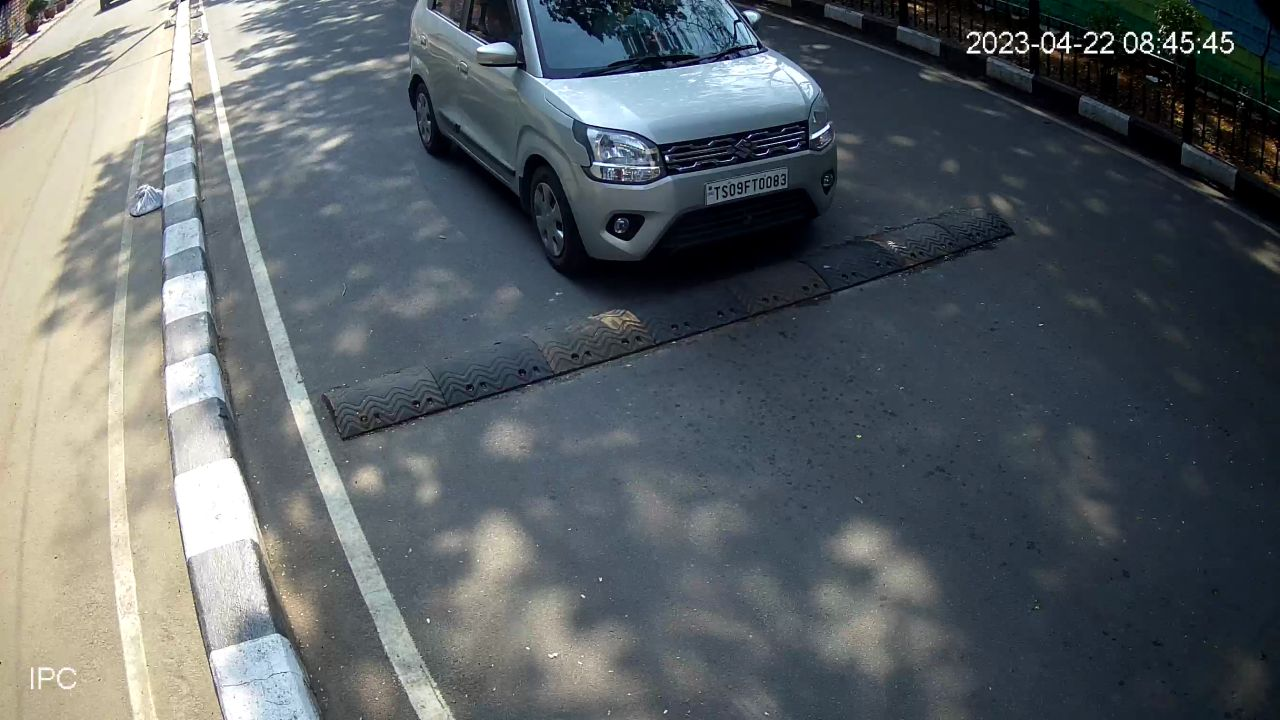license_plate: (700, 161, 794, 214)
